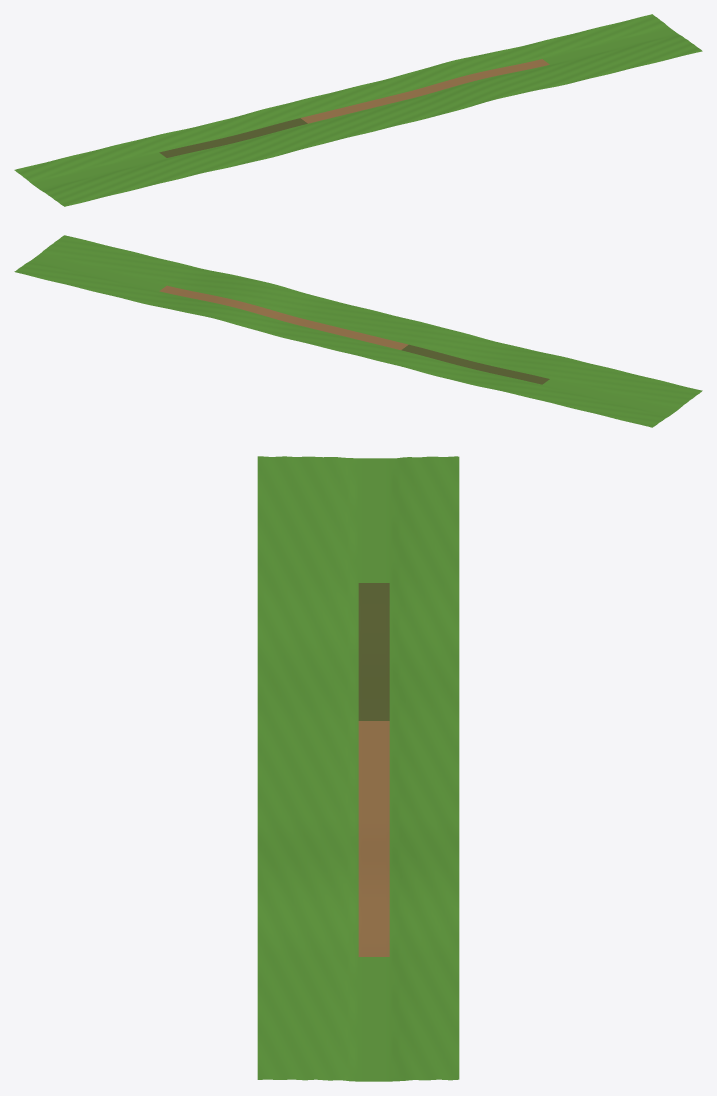
The model's file is course-base.glb.
The picture shows the model from 3 angles, top to bottom: view 1: azimuth 30°, elevation 25°; view 2: azimuth 150°, elevation 25°; view 3: azimuth 270°, elevation 25°; orthographic projection. The views are drawn at different scales.
Visible parts, largest first — view 1: CourseBase; view 2: CourseBase; view 3: CourseBase.
Boxes of the visible parts, left/top/right/bottom form: CourseBase: left=14, top=14, right=702, bottom=206; CourseBase: left=14, top=235, right=702, bottom=427; CourseBase: left=257, top=456, right=459, bottom=1081.
Size of the model in its own units: 380 by 2.46 by 52.
